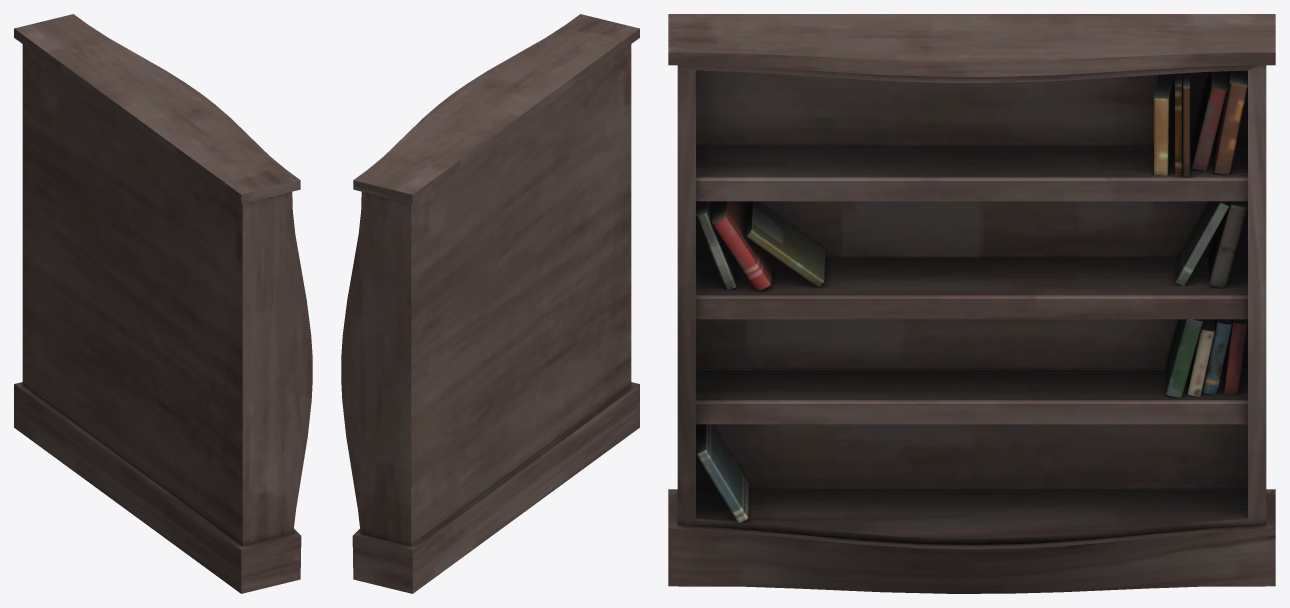
Rendered from bookcase_132_03.glb.
3 views of the same model, side by side, from view 1: azimuth 30°, elevation 25°; view 2: azimuth 150°, elevation 25°; view 3: azimuth 270°, elevation 25° (orthographic). The views are drawn at different scales.
Parts seen in each view (by area): view 1: bookcase_132_03; view 2: bookcase_132_03; view 3: bookcase_132_03.
Boxes of the visible parts, x1,y1,x2,y2 form: bookcase_132_03: (14,14,312,593); bookcase_132_03: (341,14,639,593); bookcase_132_03: (668,14,1275,593).
Bounding box in the file's own units: 0.5883 × 2.44 × 2.51.
2 materials, 2 textured.
